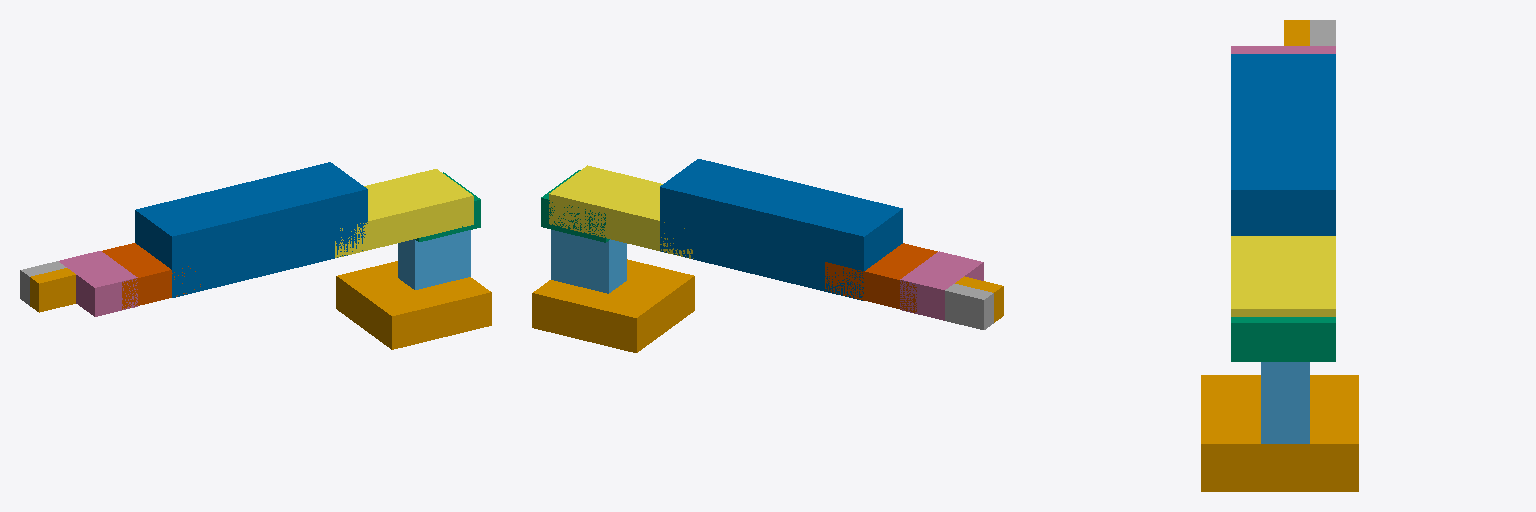
URDF robot description (arm):
<?xml version="1.0"?>
<robot name="arm">

  <link name="base_link">
    <visual>
      <geometry>
        <box size="9.3 9.0 3.0"/>
      </geometry> 
      <origin rpy="0 0 0" xyz="0 0 0"/>
    </visual>
  </link>

  <link name="base_up">
    <visual>
      <geometry>
        <box size="5.2 2.8 5.1"/>
      </geometry>
      <origin rpy="0 0 0" xyz="0 0 0"/>
    </visual>
  </link>

  <joint name="baseup_link" type="fixed">
    <parent link="base_link"/>
    <child link="base_up"/>
    <origin xyz="2.05 0.3 4.05"/>
  </joint>

  <link name="servo_rotz">
    <visual>
      <geometry>
        <box size="05.8 6.0 2.5"/>
      </geometry>
      <origin rpy="0 0 0" xyz="-1.4 0 0"/>
    </visual>
  </link>

  <joint name="servo_link2" type="revolute">
    <axis xyz="0 0 1"/>
    <limit effort="1000.0" lower="-1.57" upper="1.57" velocity="0.5"/>
    <parent link="base_up"/>
    <child link="servo_rotz"/>
    <origin xyz="1.1 -0.1 3.8"/>
  </joint>

  <link name="connection_servo12">
    <visual>
      <geometry>
        <box size="13 6 2.6"/>
      </geometry>
      <origin rpy="0 0 0" xyz="-5.2 0 0"/>
    </visual>
  </link>

  <joint name="con_up_1" type="revolute">
    <axis xyz="0 1 0"/>
    <limit effort="1000.0" lower="-1.57" upper="1.57" velocity="0.5"/>
    <parent link="servo_rotz"/>
    <child link="connection_servo12"/>
    <origin xyz="-0.5 0 0.45"/>
  </joint>


  <link name="connection_servo23">
    <visual>
      <geometry>
        <box size="18.3 6.0 5.5"/>
      </geometry>
      <origin rpy="0 0 0" xyz="-7.35 0 1.45"/>
    </visual>
  </link>

  <joint name="con_up_2" type="revolute">
    <axis xyz="0 1 0"/>
    <limit effort="1000.0" lower="-1.57" upper="1.57" velocity="0.5"/>
    <parent link="connection_servo12"/>
    <child link="connection_servo23"/>
    <origin xyz=" -10.4 0 0"/>
  </joint>

  <link name="servo_arm_rotation">
    <visual>
      <geometry>
        <box size="8.2 6.0 2.5 "/>
      </geometry>
      <origin rpy="0 0 0" xyz="-2.8 0 0"/>
    </visual>
  </link>

 <joint name="con_up_3" type="revolute">
    <axis xyz="0 1 0"/>
    <limit effort="1000.0" lower="-1.57" upper="1.57" velocity="0.5"/>
    <parent link="connection_servo23"/>
    <child link="servo_arm_rotation"/>
    <origin xyz="-14.3 0 0"/>
  </joint>

  <link name="gripper_b">
    <visual>
      <geometry>
        <box size="4 6 2.6"/>
      </geometry>
      <origin rpy="0 0 0" xyz="0 0 0"/>
    </visual>
  </link>

 <joint name="rotation_grip" type="revolute">
    <axis xyz="1 0 0"/>
    <limit effort="1000.0" lower="0" upper="3.14" velocity="0.5"/>
    <parent link="servo_arm_rotation"/>
    <child link="gripper_b"/>
    <origin xyz="-7.4 0 0"/>
  </joint>

  <link name="left_g">
    <visual>
      <geometry>
        <box size="3.5 1.5 2.6"/>
      </geometry>
      <origin rpy="0 0 0" xyz="0 0 0"/>
    </visual>
  </link>

 <joint name="fix_left" type="fixed">
    <parent link="gripper_b"/>
    <child link="left_g"/>
    <origin xyz="-3.75 2.25 0"/>
  </joint>

  <link name="right_g">
    <visual>
      <geometry>
        <box size="3.5 1.5 2.6"/>
      </geometry>
      <origin rpy="0 0 0" xyz="0 0 0"/>
    </visual>
  </link>

 <joint name="plan_move" type="prismatic">
    <axis xyz="0 1 0"/>
    <limit effort="1000.0" lower="0" upper="-5.5" velocity="0.5"/>
    <parent link="left_g"/>
    <child link="right_g"/>
    <origin xyz="0 -1.5 0"/>
  </joint>

<!-- -->
</robot>

--- Facts derived from the render (not from the file) ---
Views: 3 orthographic renders of the robot side by side, from view 1: azimuth 30°, elevation 25°; view 2: azimuth 150°, elevation 25°; view 3: azimuth 270°, elevation 25°.
Robot: arm — 9 links, 8 joints (5 revolute, 1 prismatic, 2 fixed); root link base_link; default pose: all joints at 0.
Visible links, largest first — view 1: connection_servo23, base_link, connection_servo12, base_up, gripper_b, servo_arm_rotation, right_g, left_g, servo_rotz; view 2: connection_servo23, base_link, connection_servo12, base_up, servo_arm_rotation, gripper_b, left_g, servo_rotz, right_g; view 3: connection_servo23, base_link, connection_servo12, servo_rotz, base_up, gripper_b, left_g, right_g.
Link boxes in pixels (x1,y1,x2,y2): connection_servo23: [135, 162, 367, 297]; base_link: [336, 261, 491, 349]; connection_servo12: [335, 169, 473, 257]; base_up: [398, 230, 470, 289]; gripper_b: [59, 251, 137, 316]; servo_arm_rotation: [102, 243, 200, 309]; right_g: [30, 268, 75, 312]; left_g: [20, 261, 66, 305]; servo_rotz: [415, 172, 480, 241]; connection_servo23: [660, 159, 902, 300]; base_link: [532, 259, 694, 352]; connection_servo12: [549, 165, 693, 258]; base_up: [551, 230, 626, 293]; servo_arm_rotation: [825, 243, 937, 312]; gripper_b: [900, 251, 983, 320]; left_g: [945, 284, 993, 329]; servo_rotz: [541, 170, 609, 242]; right_g: [955, 276, 1003, 322]; connection_servo23: [1231, 54, 1335, 235]; base_link: [1201, 375, 1358, 491]; connection_servo12: [1231, 236, 1335, 316]; servo_rotz: [1231, 317, 1335, 361]; base_up: [1261, 362, 1309, 443]; gripper_b: [1231, 46, 1335, 53]; left_g: [1310, 20, 1335, 45]; right_g: [1284, 20, 1309, 45].
Bounding box of the posed robot: 39.6 × 9 × 14 m (x, y, z).
Geometry: primitives only (box / cylinder / sphere), no mesh files.